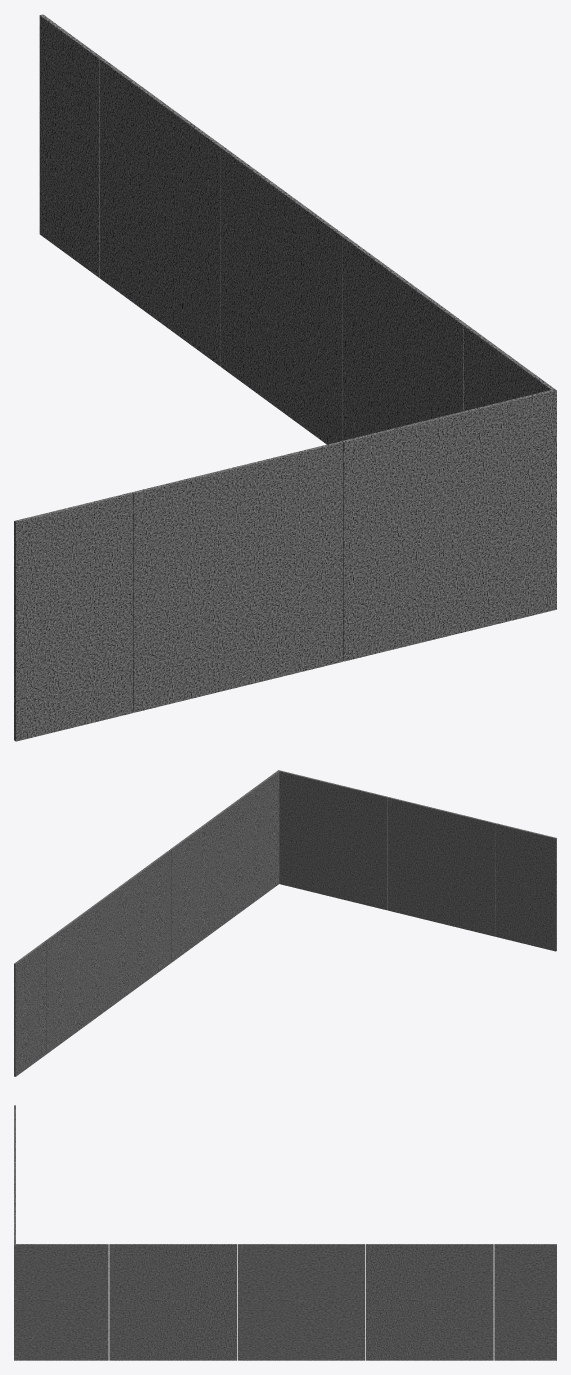
3 renders of one model, top to bottom at view 1: azimuth 30°, elevation 25°; view 2: azimuth 150°, elevation 25°; view 3: azimuth 270°, elevation 25°, orthographic. The views are drawn at different scales.
Size of the model in its own units: 1.55 by 0.6 by 2.55.
Materials: 1 (1 with a texture image).
